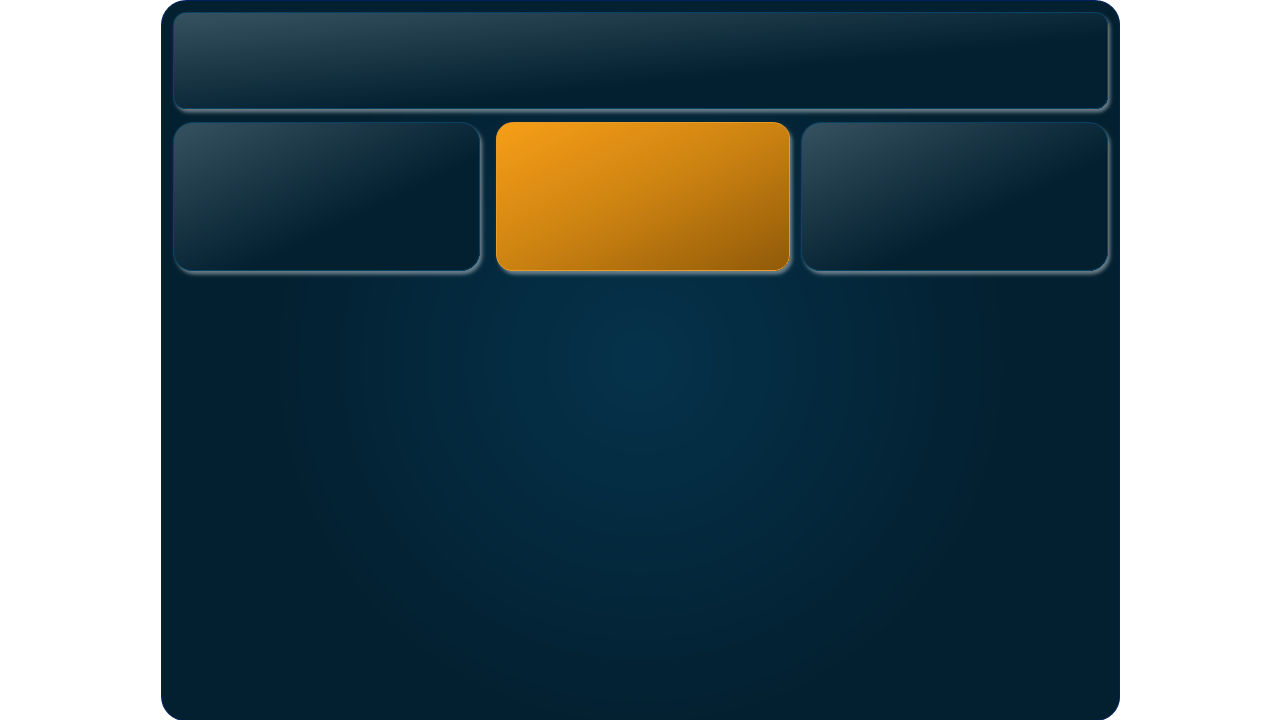

The page's visual inventory and layout, read from the dashboard file:
{"tool":"powerbi","page":{"name":"Capa","canvas":[1280,720],"ordinal":0},"visuals":[{"type":"actionButton","box":[76,537.9,402.8,62.7],"z":0}]}

Visuals, with their boxes in screenshot pixels (x1, y1, x2, y2), scaled from the page's 1280x720 canvas onto the 1280x720 screenshot:
actionButton: 76, 538, 479, 601
